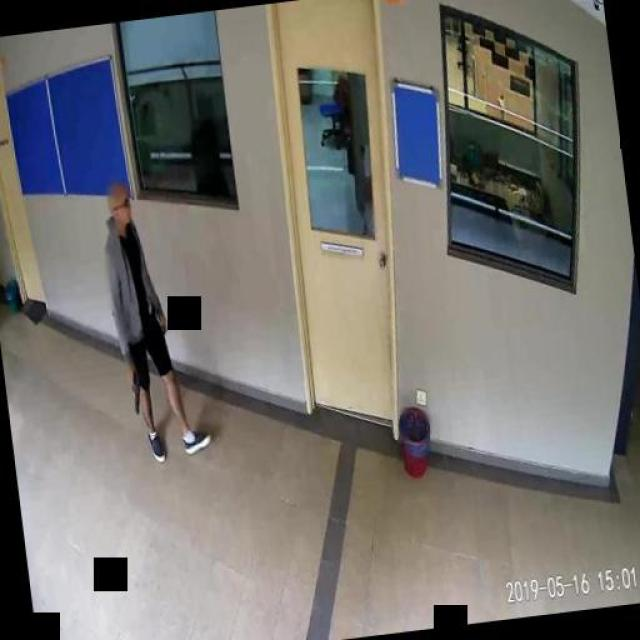gun: (126, 368, 142, 413)
